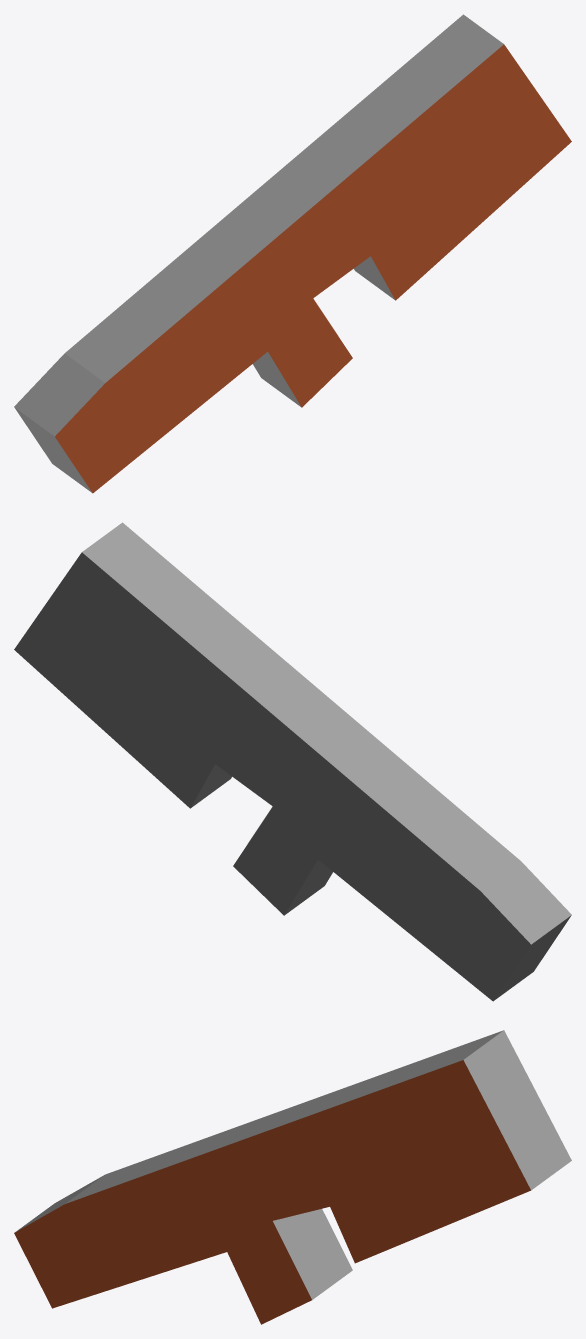
The model's file is construction_5763_assumed_A_Casa_h6m.obj.
3 renders of one model, top to bottom at view 1: azimuth 30°, elevation 25°; view 2: azimuth 150°, elevation 25°; view 3: azimuth 330°, elevation 25°, orthographic.
Visible parts, largest first — view 1: construction_5763_assumed_A_Casa; view 2: construction_5763_assumed_A_Casa; view 3: construction_5763_assumed_A_Casa.
Boxes of the visible parts, <box> form: construction_5763_assumed_A_Casa: <box>14,14,571,493</box>; construction_5763_assumed_A_Casa: <box>14,522,571,1001</box>; construction_5763_assumed_A_Casa: <box>14,1030,571,1324</box>.
Size of the model in its own units: 44 by 28.37 by 6.
